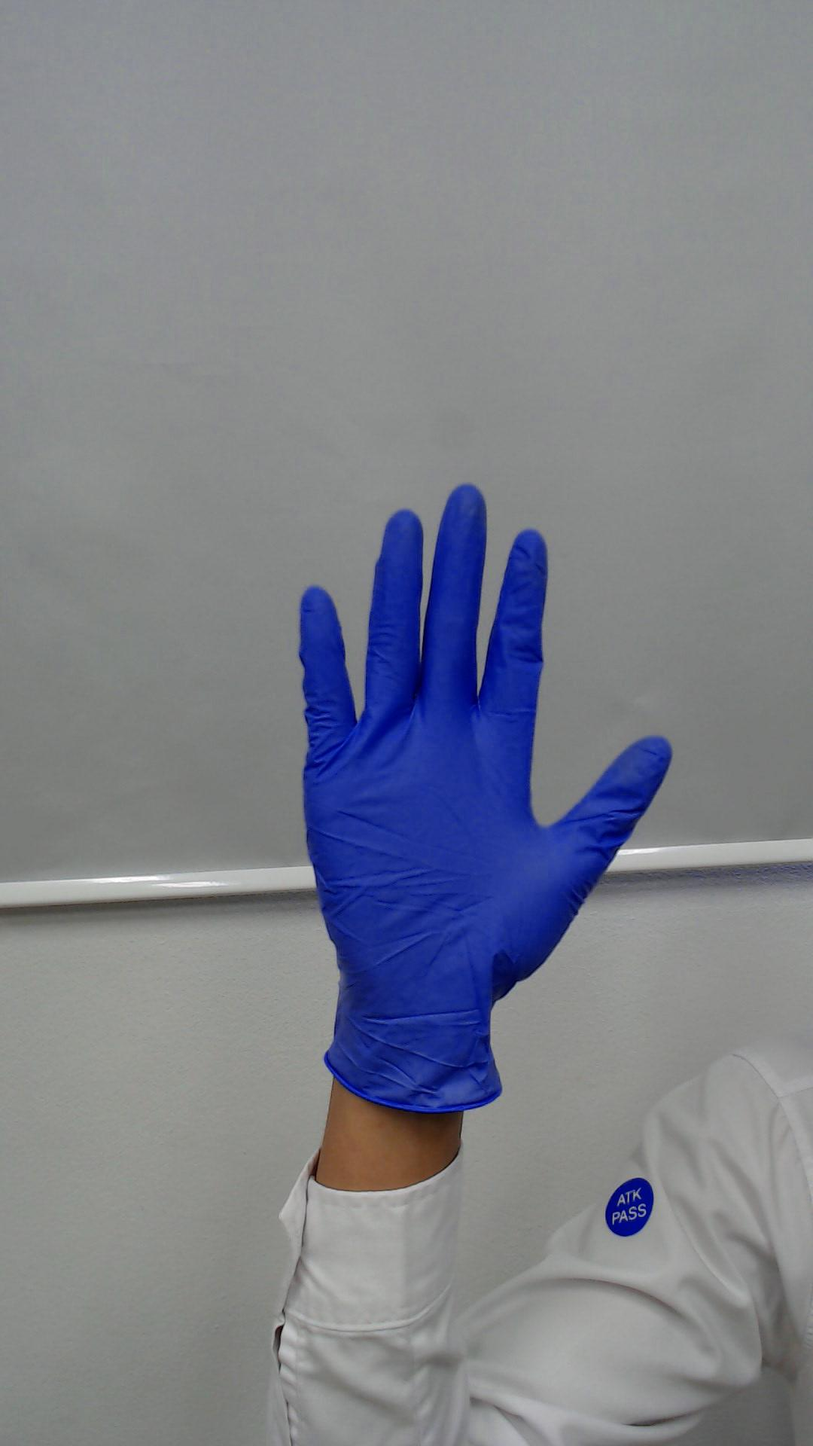gloves: (277, 445, 681, 995)
